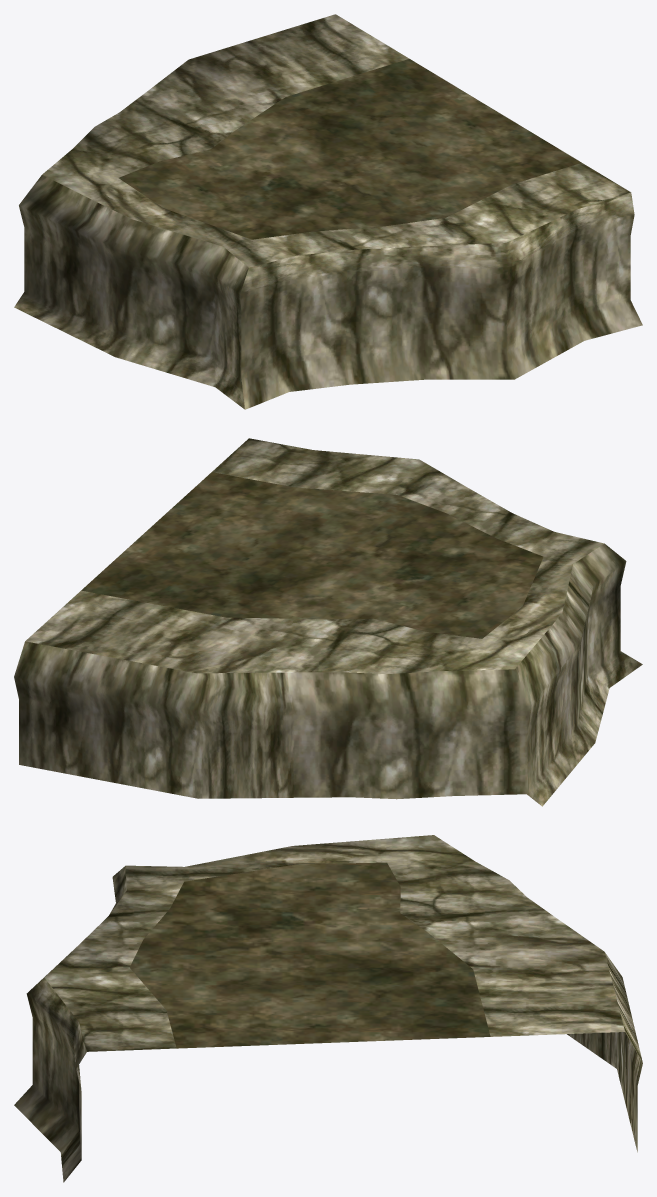
Rendered from CB_NEWPLAYSURFACE_CB_PLAYSURFACE143.fbx.
3 renders of one model, top to bottom at view 1: azimuth 30°, elevation 25°; view 2: azimuth 150°, elevation 25°; view 3: azimuth 270°, elevation 25°, orthographic. The views are drawn at different scales.
Visible parts, largest first — view 1: CB_NEWPLAYSURFACE_CB_PLAYSURFACE143; view 2: CB_NEWPLAYSURFACE_CB_PLAYSURFACE143; view 3: CB_NEWPLAYSURFACE_CB_PLAYSURFACE143.
Boxes of the visible parts, bbox=[...] form: CB_NEWPLAYSURFACE_CB_PLAYSURFACE143: bbox=[14, 14, 642, 409]; CB_NEWPLAYSURFACE_CB_PLAYSURFACE143: bbox=[14, 438, 642, 806]; CB_NEWPLAYSURFACE_CB_PLAYSURFACE143: bbox=[14, 835, 642, 1182].
Bounding box in the file's own units: 129195 × 34545 × 148568.
3 materials, 3 textured.
